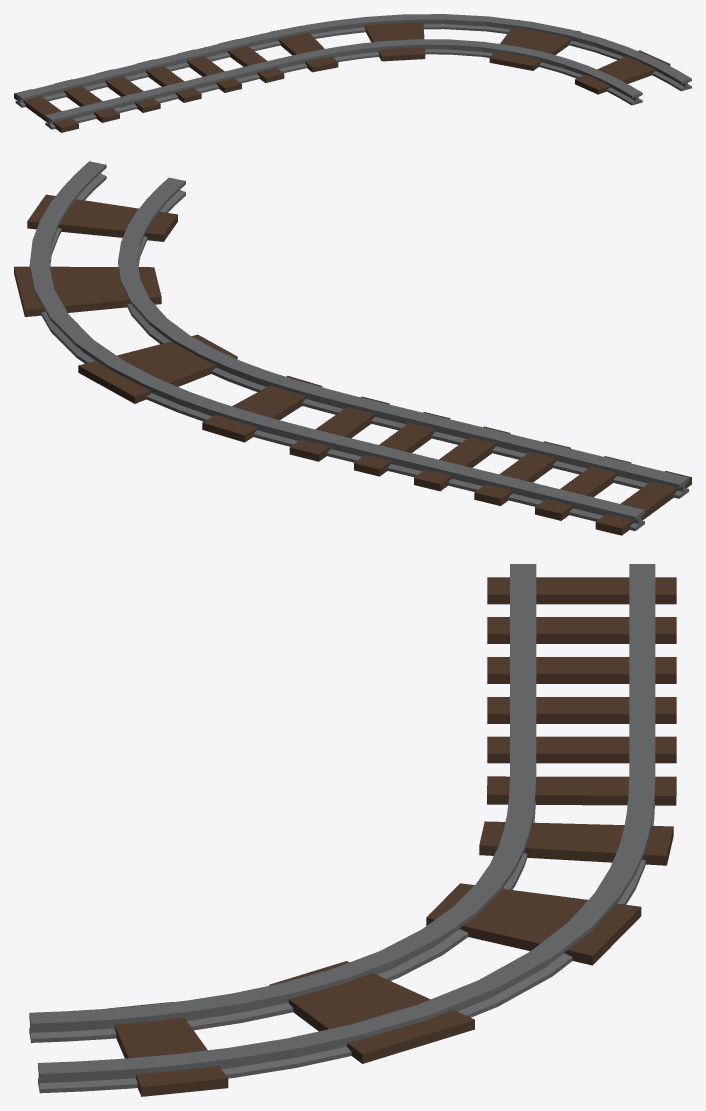
File: curvaVia.fbx
The picture shows the model from 3 angles, top to bottom: view 1: azimuth 30°, elevation 25°; view 2: azimuth 150°, elevation 25°; view 3: azimuth 270°, elevation 25°; orthographic projection. The views are drawn at different scales.
Visible parts, largest first — view 1: Cube.006; view 2: Cube.006; view 3: Cube.006.
Part boxes in pixels (x1,y1,x2,y2): Cube.006: (14, 14, 691, 132); Cube.006: (14, 161, 691, 535); Cube.006: (29, 564, 676, 1096).
Size of the model in its own units: 969 by 16.94 by 516.
